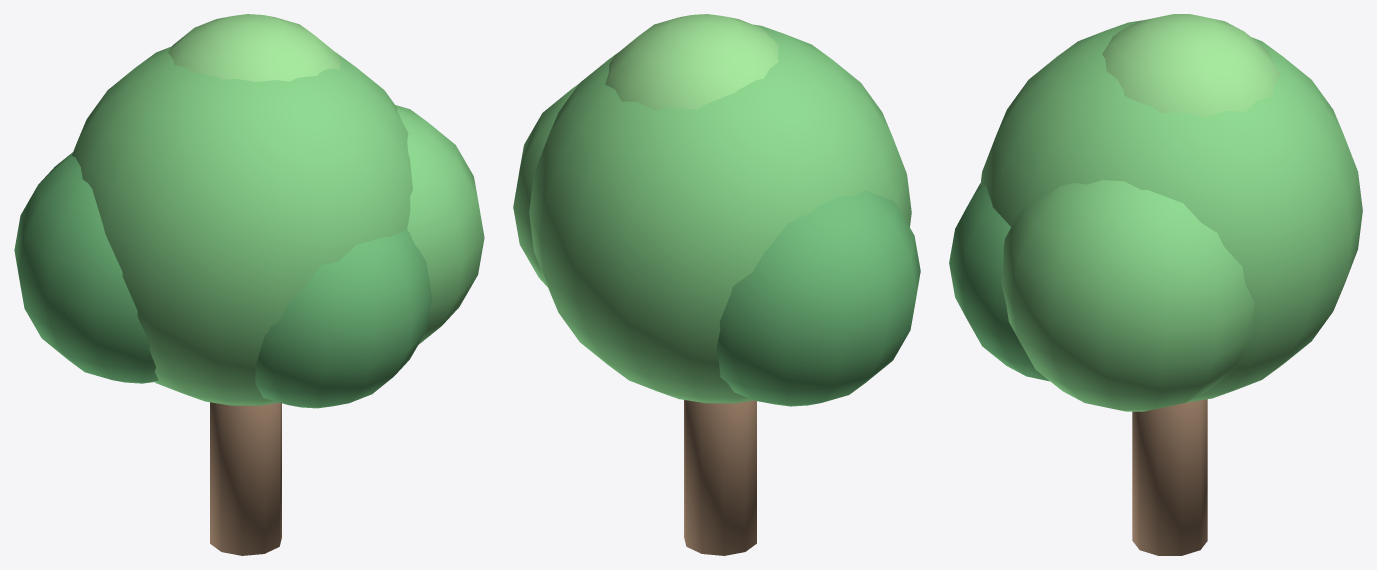
The model's file is tree_stylized_round.fbx.
The picture shows the model from 3 angles, left to right: view 1: azimuth 30°, elevation 25°; view 2: azimuth 150°, elevation 25°; view 3: azimuth 270°, elevation 25°; orthographic projection. The views are drawn at different scales.
Parts seen in each view (by area): view 1: Trunk; view 2: Trunk; view 3: Trunk.
Part boxes in pixels (<box>): Trunk: <box>14,14,484,555</box>; Trunk: <box>513,14,920,555</box>; Trunk: <box>949,14,1362,555</box>.
Size of the model in its own units: 2 by 2.45 by 1.76.
